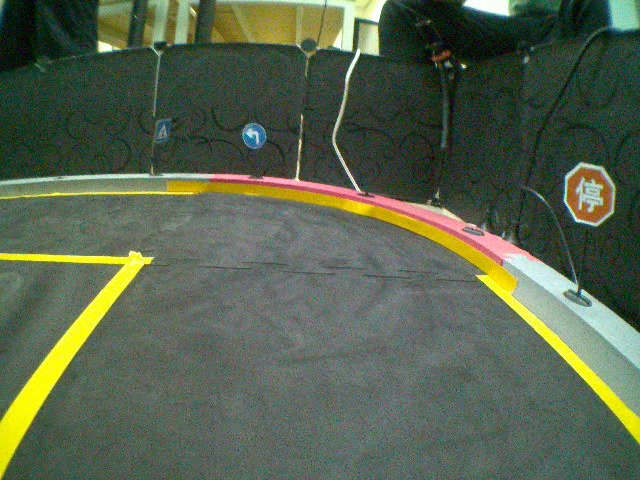Stop: (563, 158, 617, 225)
crossing: (153, 120, 174, 145)
turn: (242, 121, 268, 150)
